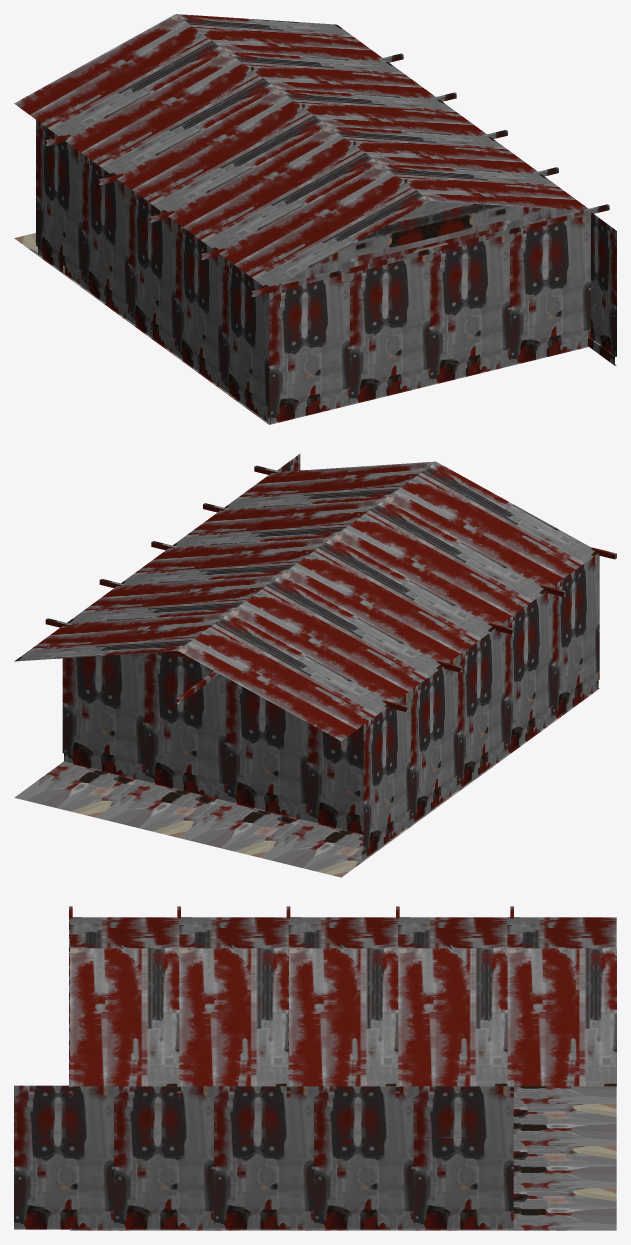
Rendered from Garaje.fbx.
3 views of the same model, one above another, from view 1: azimuth 30°, elevation 25°; view 2: azimuth 150°, elevation 25°; view 3: azimuth 270°, elevation 25° (orthographic). The views are drawn at different scales.
Visible parts, largest first — view 1: polySurface49, polySurface53, polySurface56, polySurface35, polySurface52, polySurface9, polySurface5, polySurface51, polySurface50, polySurface38, polySurface33, polySurface37 (+11 smaller); view 2: polySurface53, polySurface56, polySurface52, polySurface35, polySurface9, polySurface42, polySurface43, polySurface41, polySurface34, polySurface33, polySurface37, polySurface39 (+11 smaller); view 3: polySurface57, polySurface58, polySurface60, polySurface59, polySurface61, polySurface44, polySurface48, polySurface47, polySurface46, polySurface45, polySurface67, polySurface65 (+7 smaller).
Boxes of the visible parts, left/top/right/bottom form: polySurface49: left=349, top=251, right=430, bottom=404; polySurface53: left=65, top=51, right=277, bottom=175; polySurface56: left=14, top=14, right=226, bottom=140; polySurface35: left=168, top=126, right=379, bottom=250; polySurface52: left=117, top=89, right=328, bottom=212; polySurface9: left=219, top=163, right=430, bottom=287; polySurface5: left=268, top=273, right=349, bottom=424; polySurface51: left=509, top=214, right=590, bottom=365; polySurface50: left=428, top=234, right=509, bottom=385; polySurface38: left=82, top=154, right=130, bottom=322; polySurface33: left=222, top=256, right=270, bottom=424; polySurface37: left=129, top=188, right=177, bottom=356; polySurface53: left=230, top=575, right=443, bottom=702; polySurface56: left=178, top=613, right=389, bottom=741; polySurface52: left=281, top=537, right=495, bottom=662; polySurface35: left=333, top=499, right=546, bottom=625; polySurface9: left=385, top=461, right=597, bottom=587; polySurface42: left=144, top=652, right=227, bottom=801; polySurface43: left=62, top=653, right=145, bottom=781; polySurface41: left=226, top=678, right=309, bottom=821; polySurface34: left=503, top=587, right=552, bottom=757; polySurface33: left=550, top=553, right=599, bottom=722; polySurface37: left=456, top=621, right=505, bottom=791; polySurface39: left=361, top=690, right=410, bottom=860; polySurface57: left=398, top=948, right=507, bottom=1086; polySurface58: left=507, top=948, right=616, bottom=1086; polySurface60: left=289, top=948, right=398, bottom=1086; polySurface59: left=179, top=948, right=288, bottom=1086; polySurface61: left=70, top=948, right=179, bottom=1086; polySurface44: left=413, top=1086, right=513, bottom=1229; polySurface48: left=14, top=1085, right=113, bottom=1229; polySurface47: left=114, top=1086, right=213, bottom=1229; polySurface46: left=214, top=1086, right=313, bottom=1229; polySurface45: left=314, top=1086, right=413, bottom=1229; polySurface67: left=507, top=1188, right=616, bottom=1230; polySurface65: left=513, top=1146, right=616, bottom=1188.
Bounding box in the file's own units: 11.08 × 5.64 × 15.16.
